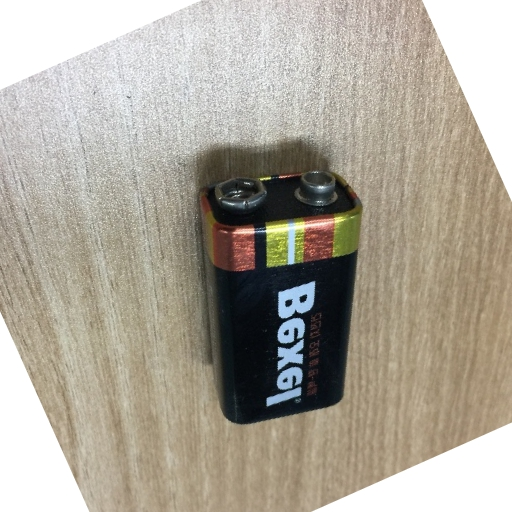Battery_3: (185, 148, 374, 437)
